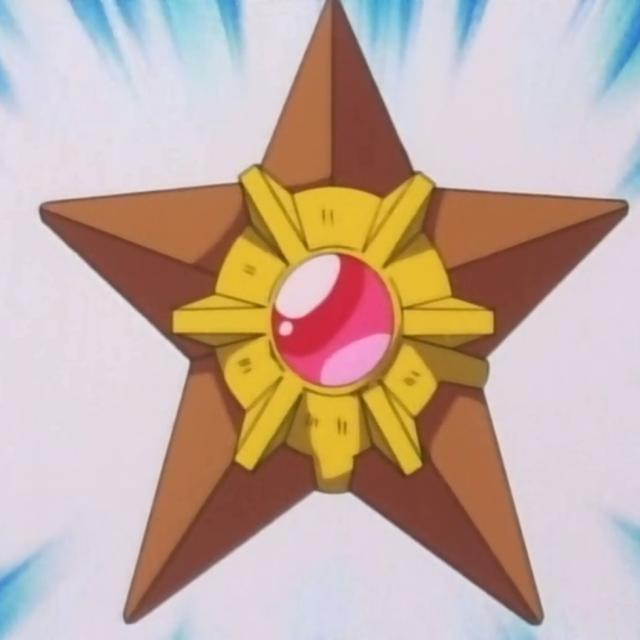Staryu: (116, 2, 556, 628)
